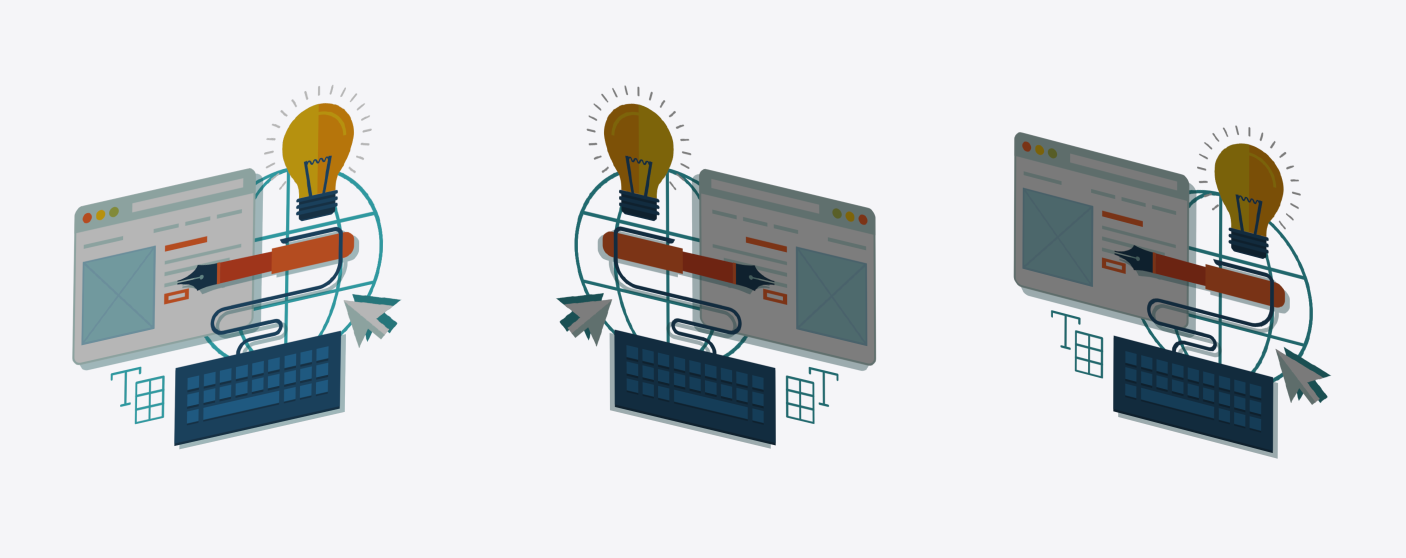
File: Pen-aamd7kxe.glb
3 renders of one model, left to right at view 1: azimuth 30°, elevation 25°; view 2: azimuth 150°, elevation 25°; view 3: azimuth 330°, elevation 25°, orthographic. The views are drawn at different scales.
Parts seen in each view (by area): view 1: Web-Design-Transparent-Images-PNG; view 2: Web-Design-Transparent-Images-PNG; view 3: Web-Design-Transparent-Images-PNG.
Part boxes in pixels (x1,y1,x2,y2): Web-Design-Transparent-Images-PNG: [72, 85, 400, 448]; Web-Design-Transparent-Images-PNG: [556, 85, 875, 448]; Web-Design-Transparent-Images-PNG: [1013, 125, 1330, 458].
Bounding box in the file's own units: 1.09 × 1.01 × 0.0224.
Materials: 1 (1 with a texture image).
